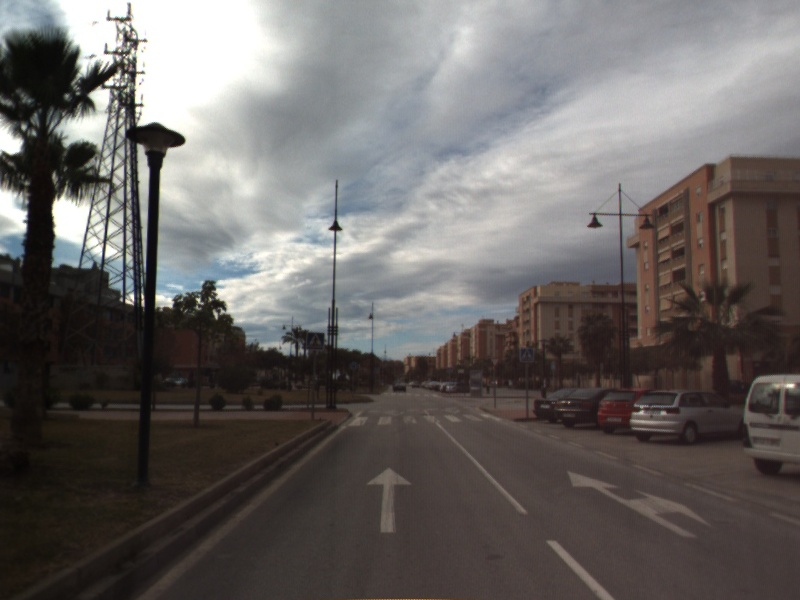STRAIGHT: (365, 465, 414, 534)
STRAIGHT_RIGHT: (565, 469, 713, 540)
